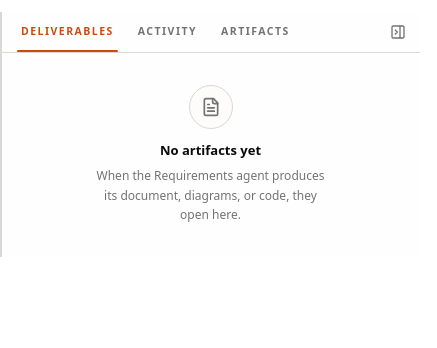
Scenario: the project artifacts tab › lists the project's APPROVED documents, grouped by the agent that produced them
Click the tab "Artifacts": (255, 32) [209,12,302,52]
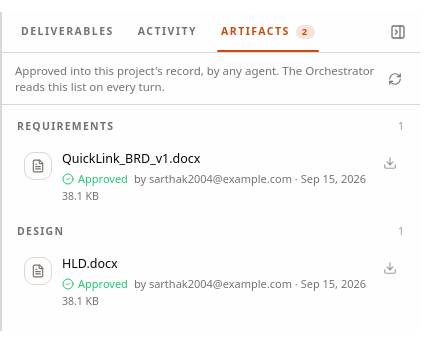
expect the element with test id "project-artifact-group-requirements" is shown: met, box [9,113,412,214]
expect the element with test id "project-artifact-group-design" is shown: met, box [9,218,412,319]
expect the text "QuickLink_BRD_v1.docx" is shown: met, box [62,150,200,167]
